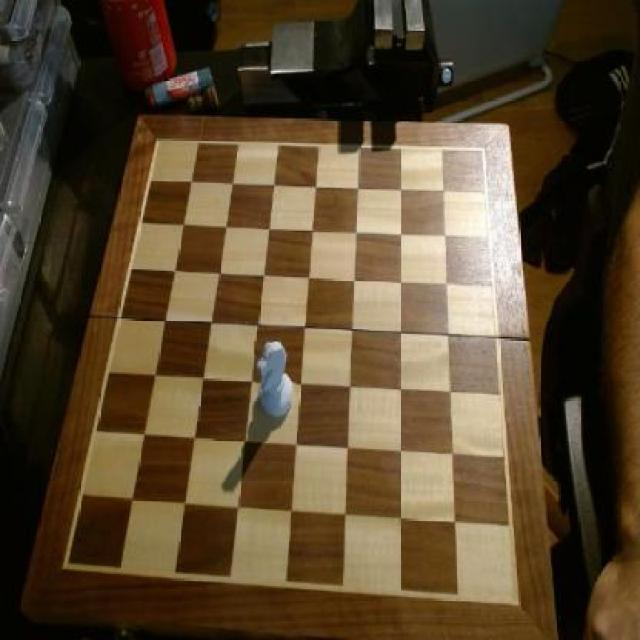white-king: (256, 338, 296, 420)
